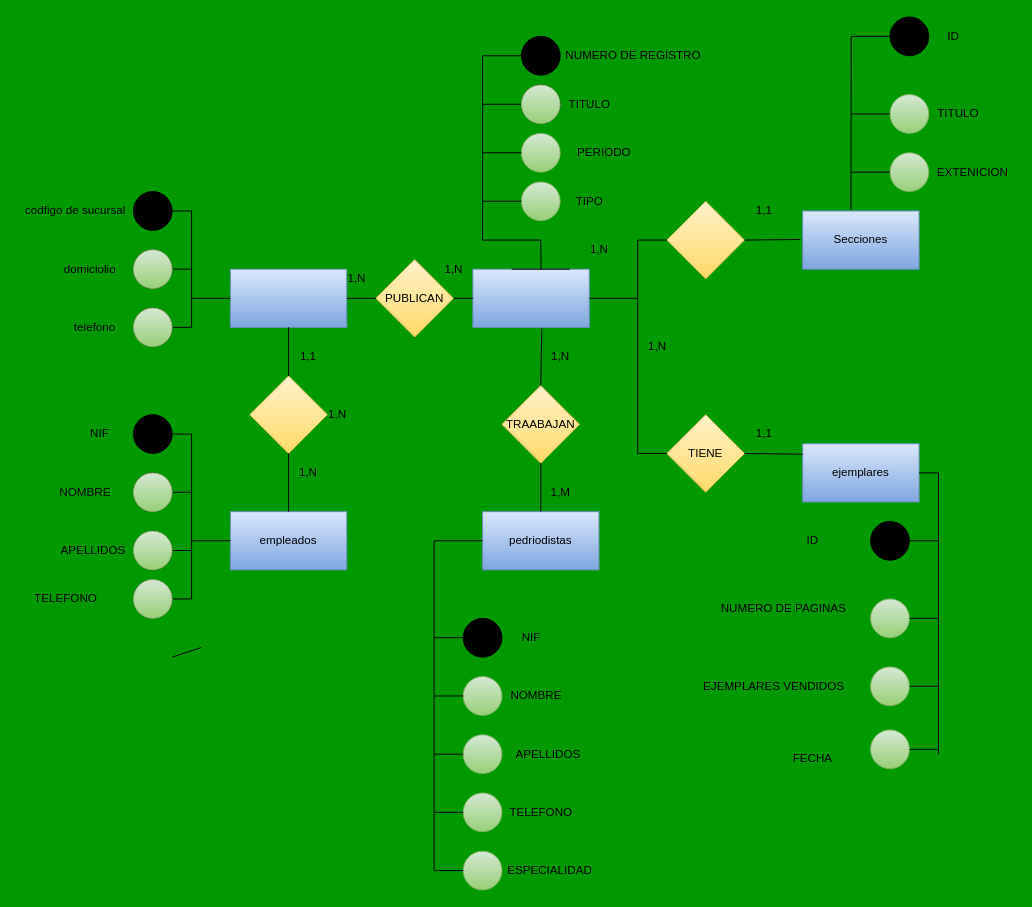
The diagram is 1032 pixels wide and 907 high, and some of its shapes have lost their labels. The shapes that lost their labels are listed below. From the top down, each one's box as (x1, y1, x2, y2) in pixels, then its label:
(666, 200, 744, 279): CONTIENE
(229, 268, 347, 327): sucursal
(472, 268, 589, 327): revista
(249, 375, 327, 453): TRABAJAN
